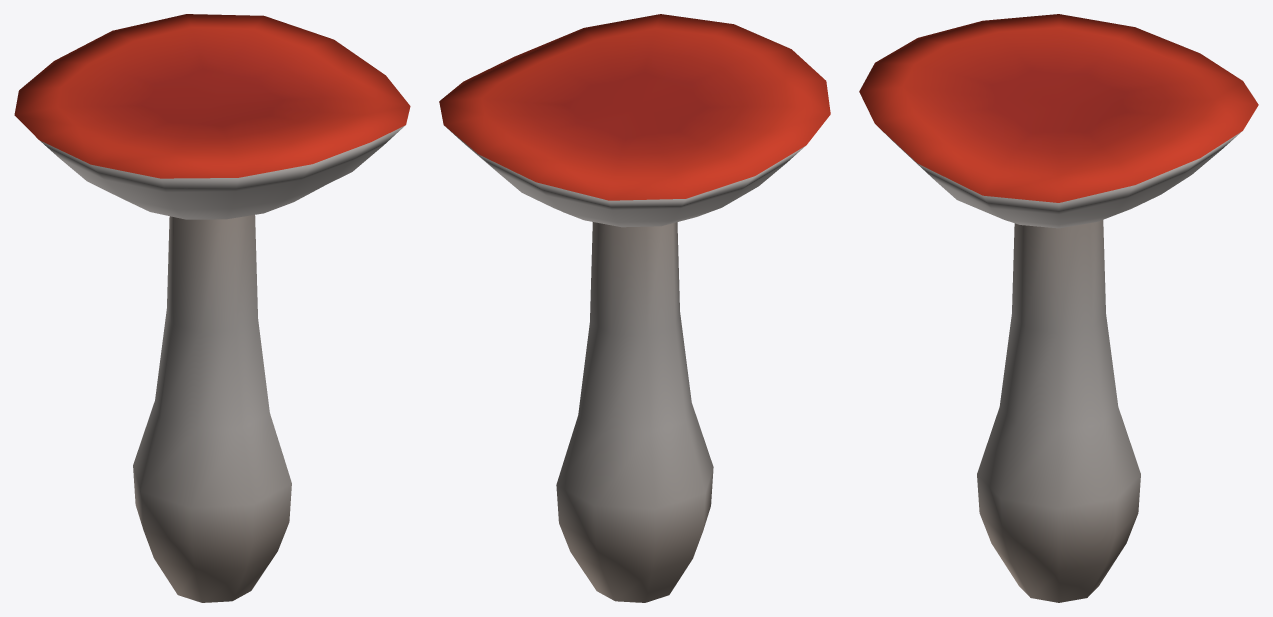
Rendered from plants-mushrooms-red-cap-mushroom_v3.glb.
The picture shows the model from 3 angles, left to right: view 1: azimuth 30°, elevation 25°; view 2: azimuth 150°, elevation 25°; view 3: azimuth 270°, elevation 25°; orthographic projection.
Visible parts, largest first — view 1: Red Cap Mushroom_v3; view 2: Red Cap Mushroom_v3; view 3: Red Cap Mushroom_v3.
Part boxes in pixels (<box>): Red Cap Mushroom_v3: <box>14,14,410,602</box>; Red Cap Mushroom_v3: <box>439,14,830,602</box>; Red Cap Mushroom_v3: <box>859,14,1258,602</box>.
Size of the model in its own units: 0.0704 by 0.1 by 0.0704.
